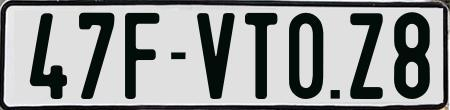0: (287, 12, 325, 98)
4: (30, 10, 72, 99)
7: (79, 12, 117, 102)
8: (394, 11, 430, 103)
F: (125, 10, 161, 102)
T: (242, 11, 277, 99)
V: (197, 12, 239, 99)
Z: (348, 11, 384, 103)
